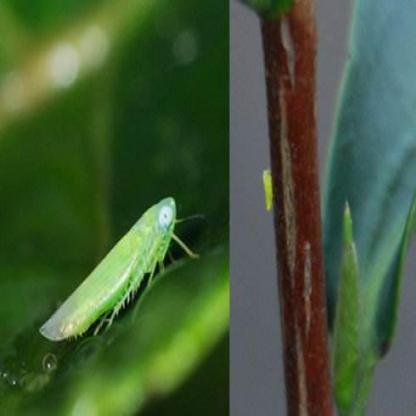Green-Leafhopper: (40, 190, 202, 352)
